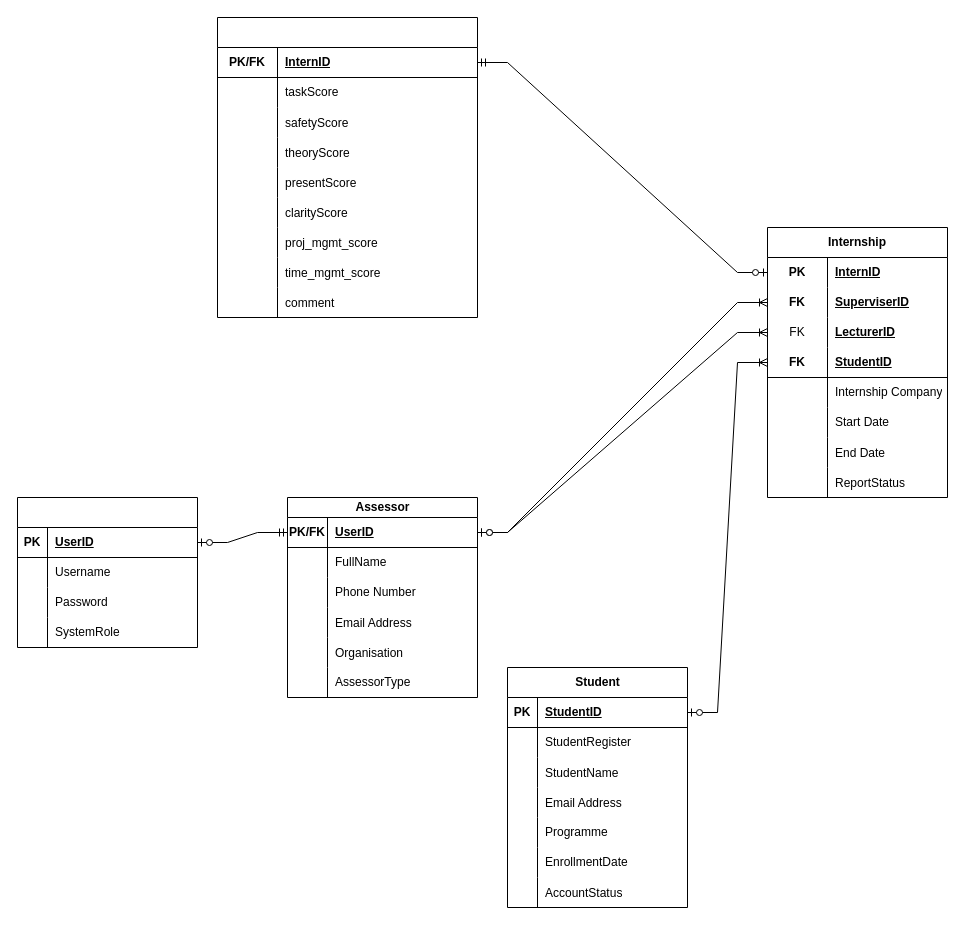
Some shapes in this 965 by 925 pixel diagram are drawn without their labels. The shapes that lost their labels are listed below. From the top down, each one's box as (x1, y1, x2, y2) in pixels, then its label:
(216, 16, 478, 318): Internship Report
(16, 496, 198, 648): User Login
